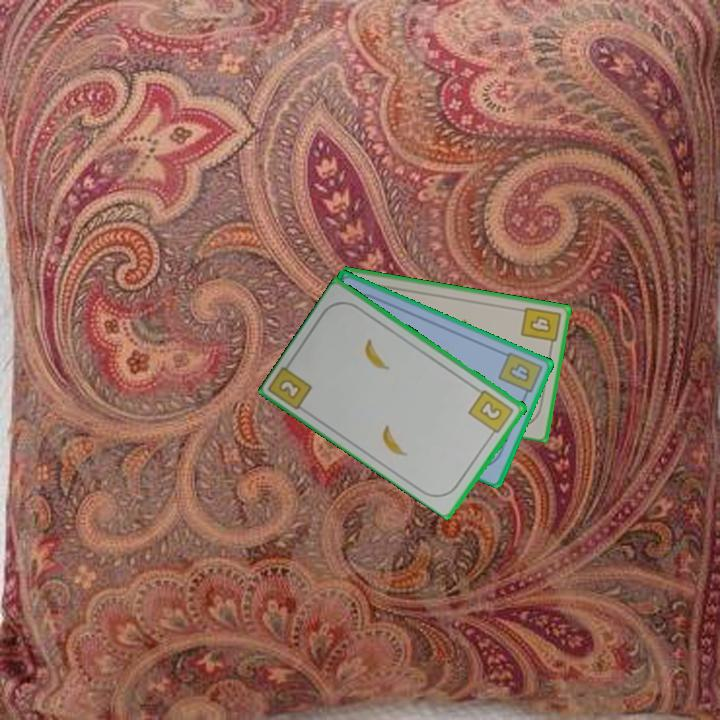2b: (465, 386, 517, 440), (275, 375, 305, 402)
4b: (495, 348, 545, 401), (517, 303, 563, 351)
